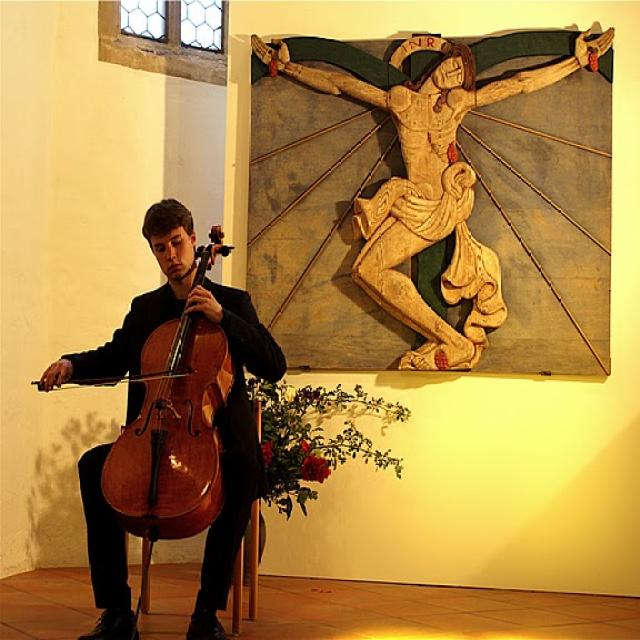cello: (102, 225, 258, 537)
